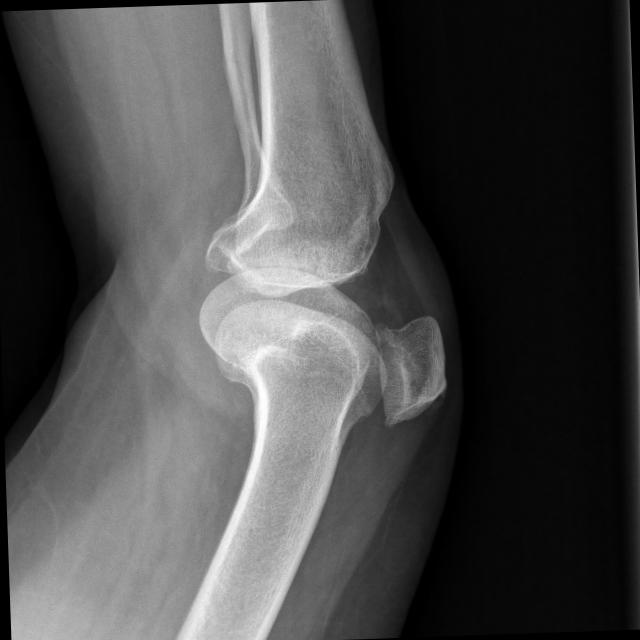Knee: (194, 190, 452, 440)
